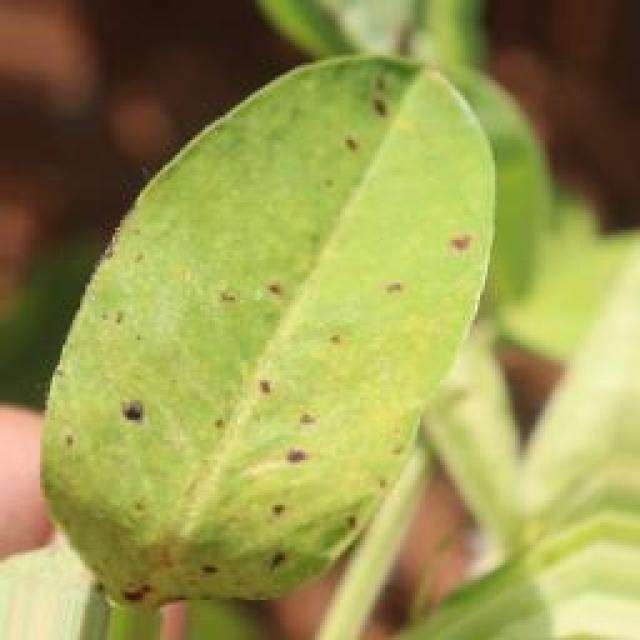Sigatoka: (258, 261, 380, 354), (249, 360, 335, 463), (322, 437, 410, 537), (76, 229, 152, 338), (323, 75, 412, 167), (196, 252, 252, 332), (96, 561, 164, 621), (263, 488, 300, 591), (125, 371, 179, 440), (382, 245, 418, 325), (186, 534, 246, 580), (447, 223, 492, 267)
